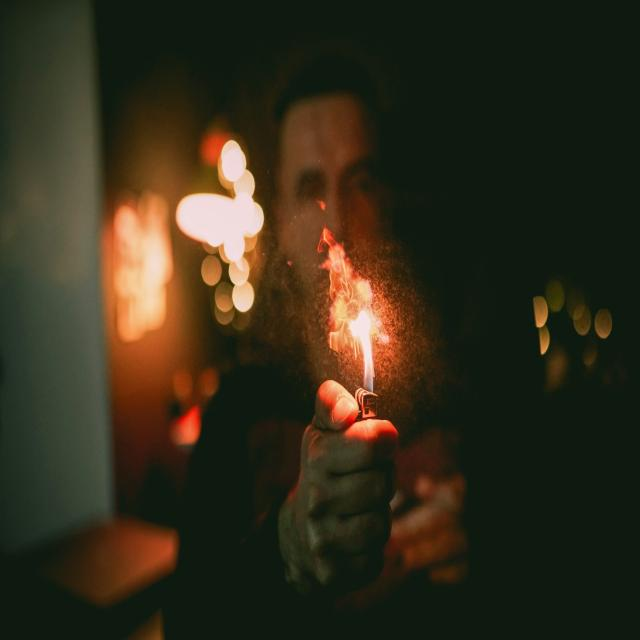fire: (317, 226, 388, 347), (349, 311, 375, 392)
